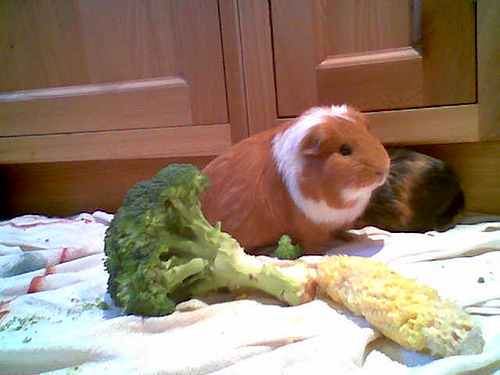broccoli: (101, 161, 320, 318)
